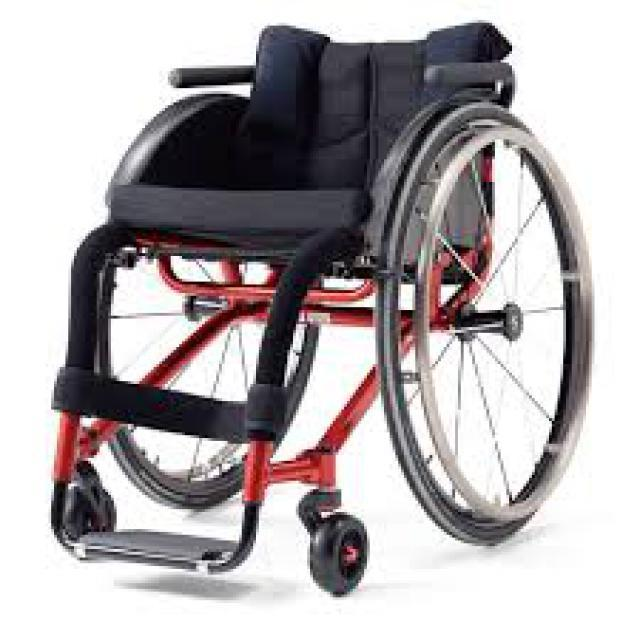wheelchairs: (44, 19, 592, 601)
